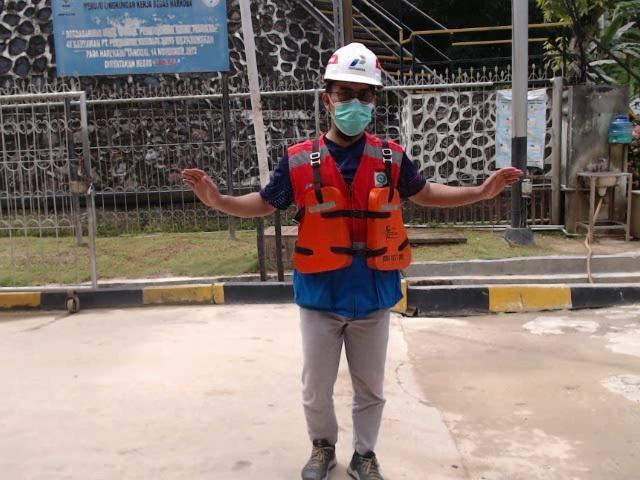vest: (288, 183, 416, 276)
